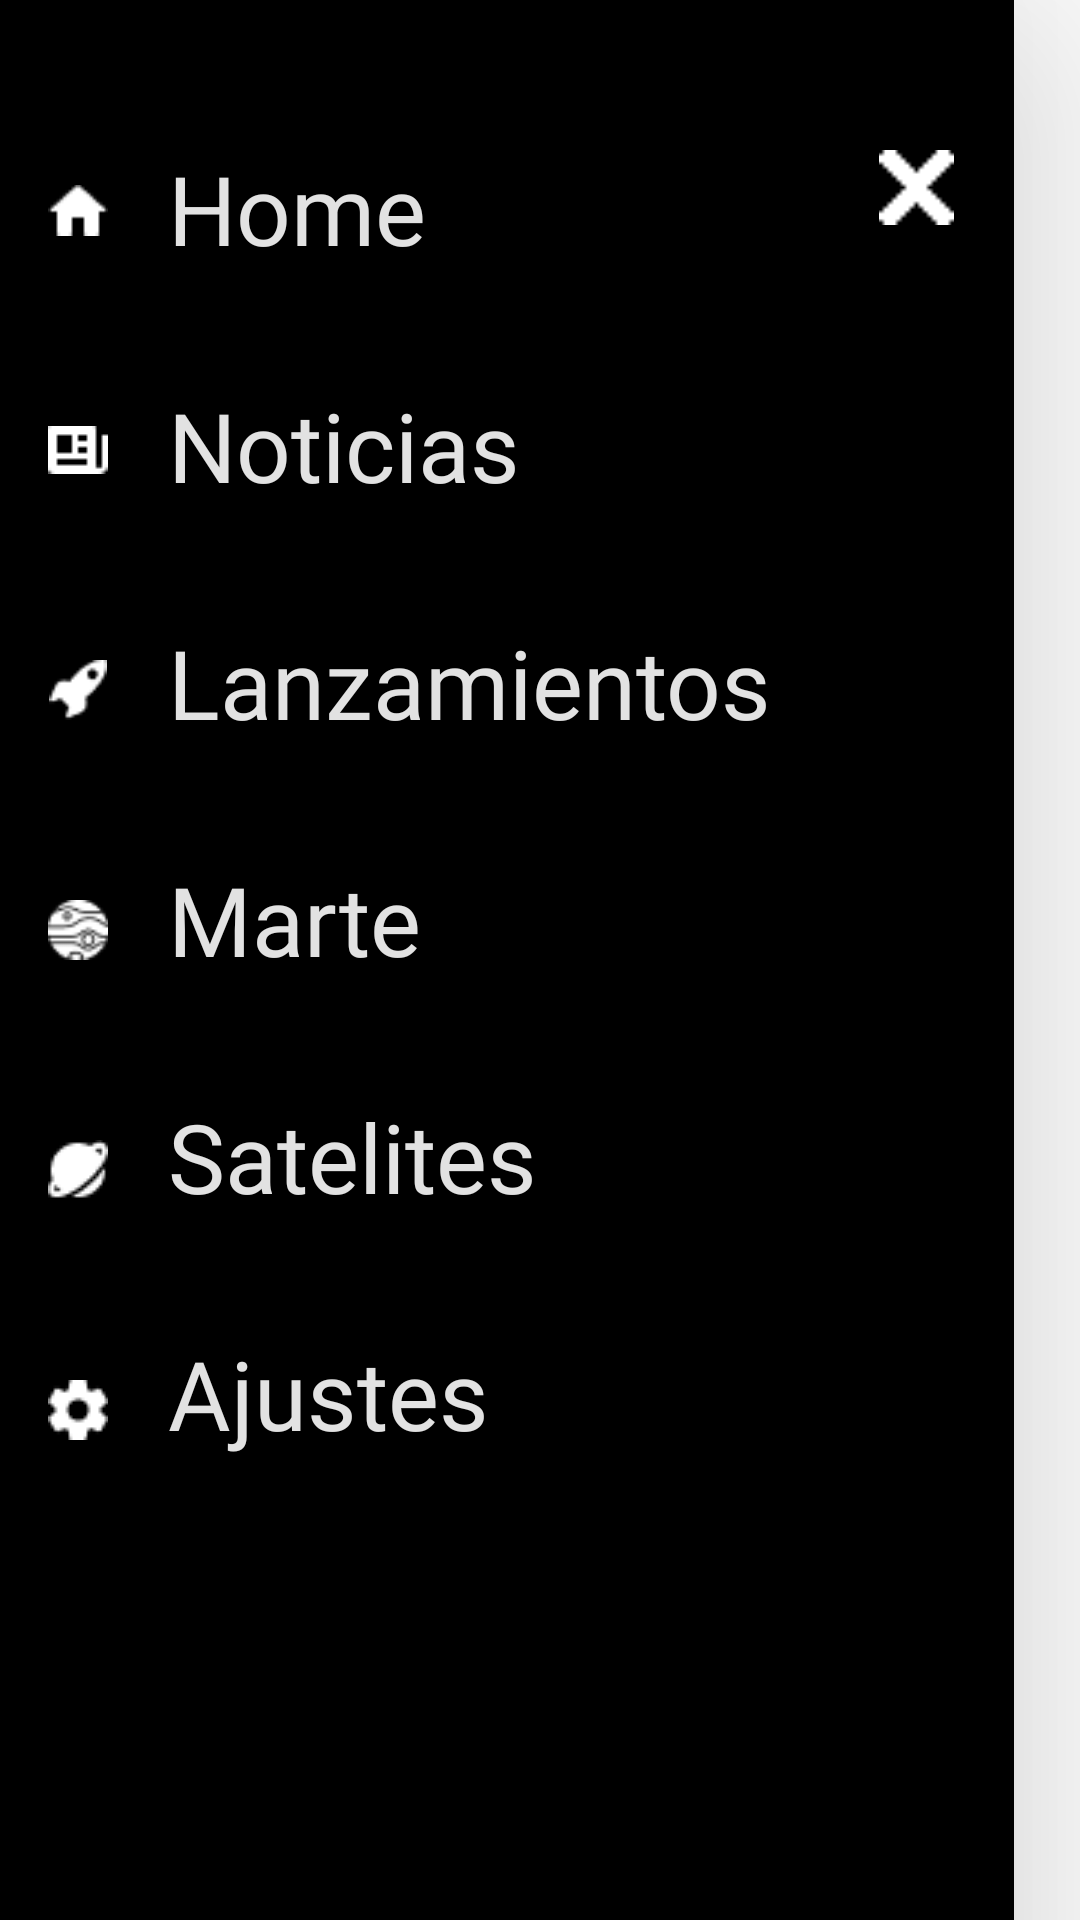

Screen size 1080x1920. Icon name, then its box in pixels as (x1, y1, x2, y2):
launches: (49, 660, 107, 719)
mars: (48, 900, 108, 960)
news: (48, 426, 108, 474)
satellites: (48, 1140, 108, 1198)
settings: (48, 1380, 108, 1440)
